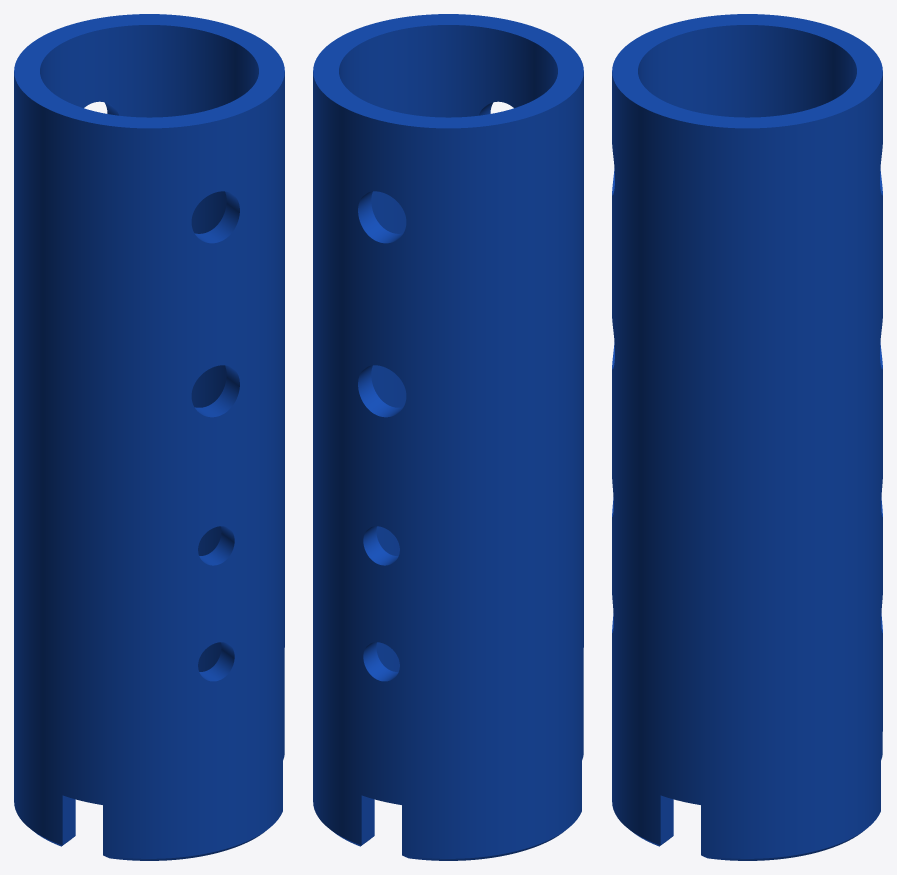
The model's file is 02_casquillo_cabeza.glb.
3 renders of one model, left to right at view 1: azimuth 30°, elevation 25°; view 2: azimuth 150°, elevation 25°; view 3: azimuth 270°, elevation 25°, orthographic.
Visible parts, largest first — view 1: 02_casquillo_cabeza; view 2: 02_casquillo_cabeza; view 3: 02_casquillo_cabeza.
Part boxes in pixels (x1,y1,x2,y2): 02_casquillo_cabeza: (14,14,284,860); 02_casquillo_cabeza: (313,14,583,860); 02_casquillo_cabeza: (612,14,882,860).
Size of the model in its own units: 63.5 by 190 by 63.5.
